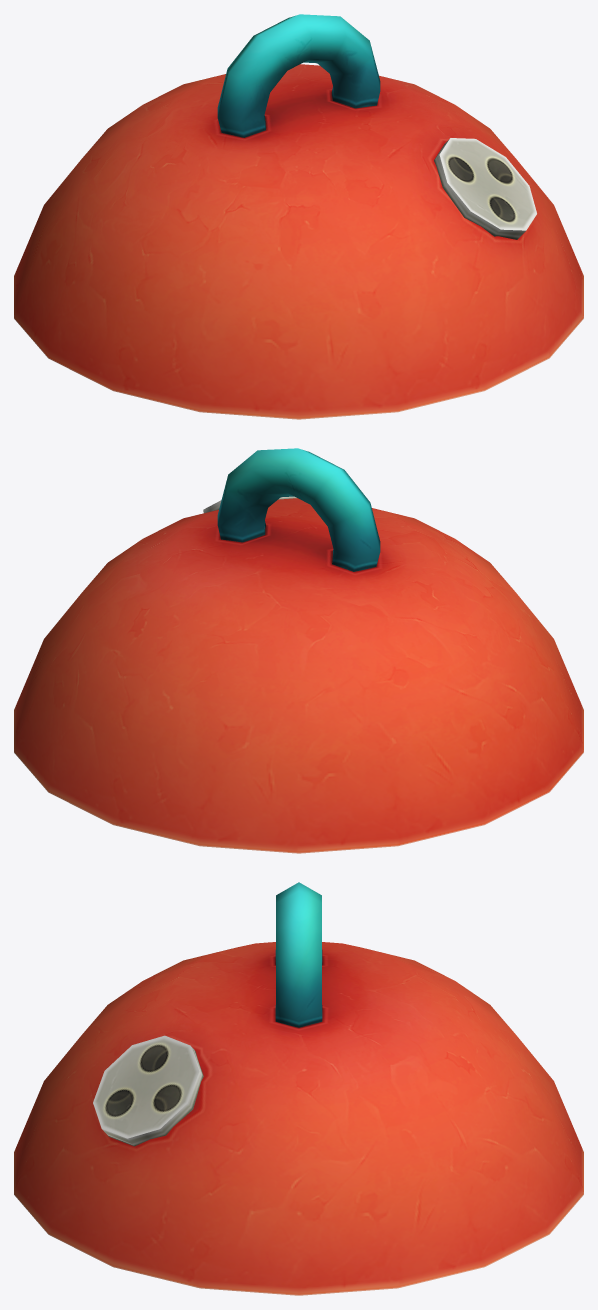
Rendered from SE_Grill_03.fbx.
The picture shows the model from 3 angles, top to bottom: view 1: azimuth 30°, elevation 25°; view 2: azimuth 150°, elevation 25°; view 3: azimuth 270°, elevation 25°; orthographic projection.
Parts seen in each view (by area): view 1: SE_Grill_03; view 2: SE_Grill_03; view 3: SE_Grill_03.
Part boxes in pixels (box(x1,y1,x2,y2)): SE_Grill_03: box(14, 14, 583, 419); SE_Grill_03: box(14, 448, 583, 853); SE_Grill_03: box(14, 882, 583, 1295).
Size of the model in its own units: 2.42 by 1.34 by 2.38.
